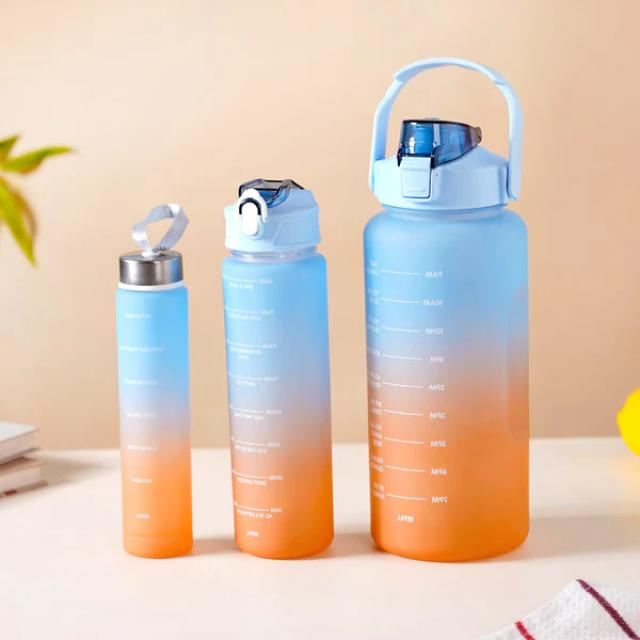Bottle: (367, 47, 532, 560), (221, 170, 331, 558), (115, 201, 197, 561)
